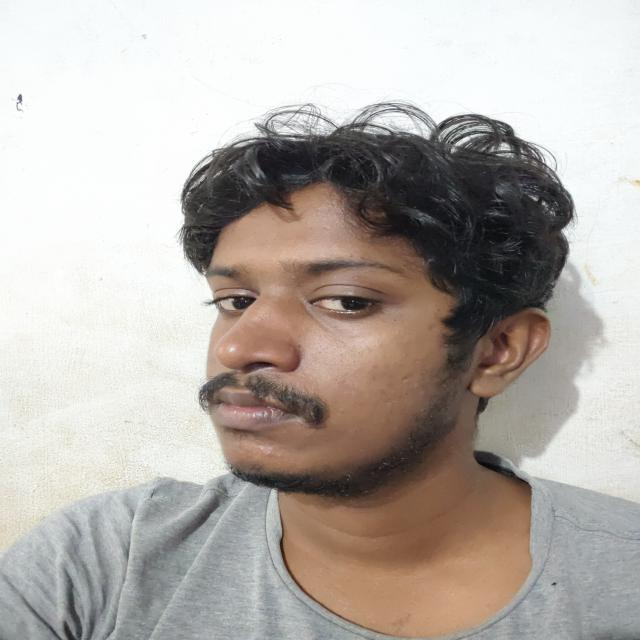Acne: (256, 443, 290, 463), (343, 248, 357, 258), (233, 448, 247, 456), (417, 408, 427, 415), (290, 275, 299, 281), (274, 261, 282, 267)
Englarged-Pores: (306, 338, 379, 387), (396, 370, 424, 390), (376, 416, 396, 428), (380, 398, 398, 410)
